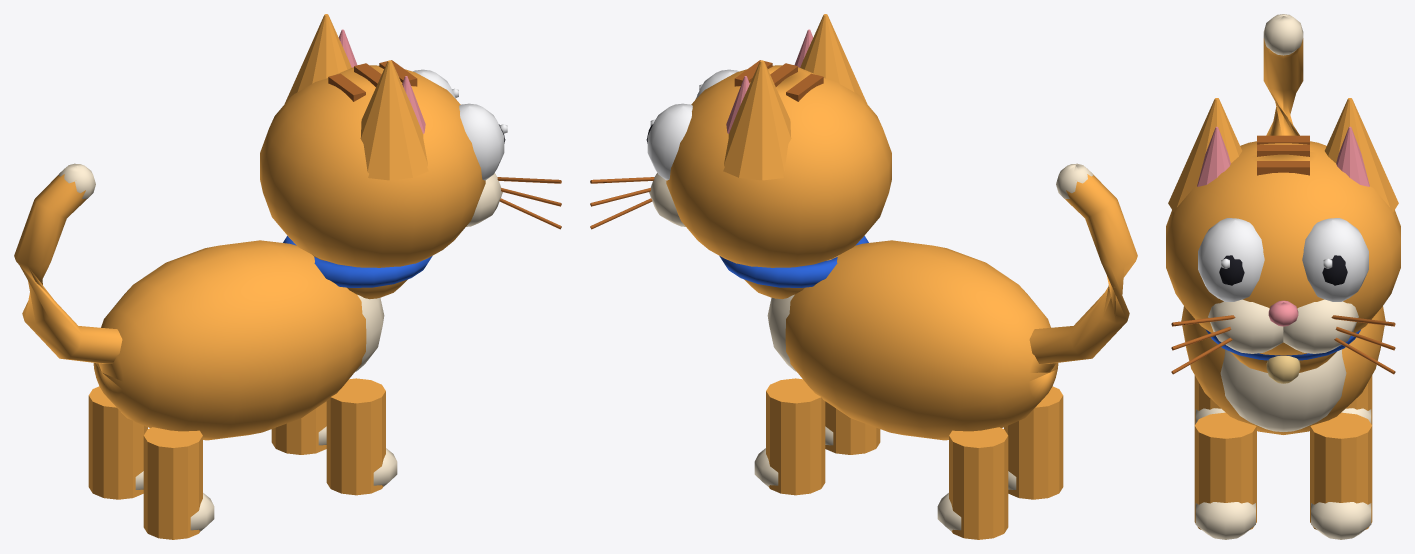
File: cat.glb
The picture shows the model from 3 angles, left to right: view 1: azimuth 30°, elevation 25°; view 2: azimuth 150°, elevation 25°; view 3: azimuth 270°, elevation 25°; orthographic projection. The views are drawn at different scales.
Visible parts, largest first — view 1: cat_body, cat_head, cat_tail, cat_ears, cat_leg_fr, cat_leg_rr, cat_leg_rl, cat_eyes, cat_collar, cat_leg_fl, cat_stripes, cat_chest (+4 smaller); view 2: cat_body, cat_head, cat_tail, cat_ears, cat_leg_fl, cat_leg_rl, cat_leg_rr, cat_eyes, cat_collar, cat_leg_fr, cat_stripes, cat_chest (+4 smaller); view 3: cat_head, cat_eyes, cat_chest, cat_muzzle, cat_body, cat_leg_fl, cat_leg_fr, cat_ears, cat_tail, cat_ears_inner, cat_paw_fl, cat_paw_fr (+9 smaller).
Part boxes in pixels (box(x1,y1,x2,y2)): cat_body: box(93, 240, 407, 440); cat_head: box(260, 65, 485, 267); cat_tail: box(14, 174, 122, 363); cat_ears: box(284, 14, 428, 180); cat_leg_fr: box(326, 378, 385, 495); cat_leg_rr: box(143, 427, 202, 539); cat_leg_rl: box(88, 386, 147, 499); cat_eyes: box(413, 69, 504, 180); cat_collar: box(283, 236, 432, 287); cat_leg_fl: box(271, 401, 326, 454); cat_stripes: box(328, 60, 417, 101); cat_chest: box(355, 294, 384, 371); cat_body: box(744, 240, 1058, 440); cat_head: box(666, 65, 891, 267); cat_tail: box(1029, 174, 1137, 363); cat_ears: box(723, 14, 867, 180); cat_leg_fl: box(766, 378, 825, 495); cat_leg_rl: box(949, 427, 1008, 539); cat_leg_rr: box(1004, 386, 1063, 499); cat_eyes: box(647, 69, 738, 180); cat_collar: box(719, 236, 868, 287); cat_leg_fr: box(825, 401, 880, 454); cat_stripes: box(734, 60, 823, 101); cat_chest: box(767, 294, 796, 371); cat_head: box(1166, 141, 1400, 355); cat_eyes: box(1198, 218, 1368, 301); cat_chest: box(1220, 349, 1346, 431); cat_muzzle: box(1208, 299, 1358, 353); cat_body: box(1181, 306, 1385, 434); cat_leg_fl: box(1310, 412, 1372, 529); cat_leg_fr: box(1194, 412, 1256, 529); cat_ears: box(1168, 98, 1398, 212); cat_tail: box(1263, 38, 1303, 135); cat_ears_inner: box(1197, 126, 1369, 186); cat_paw_fl: box(1311, 502, 1371, 539); cat_paw_fr: box(1195, 502, 1255, 539).
Size of the model in its own units: 0.1349 by 0.111 by 0.0529.
